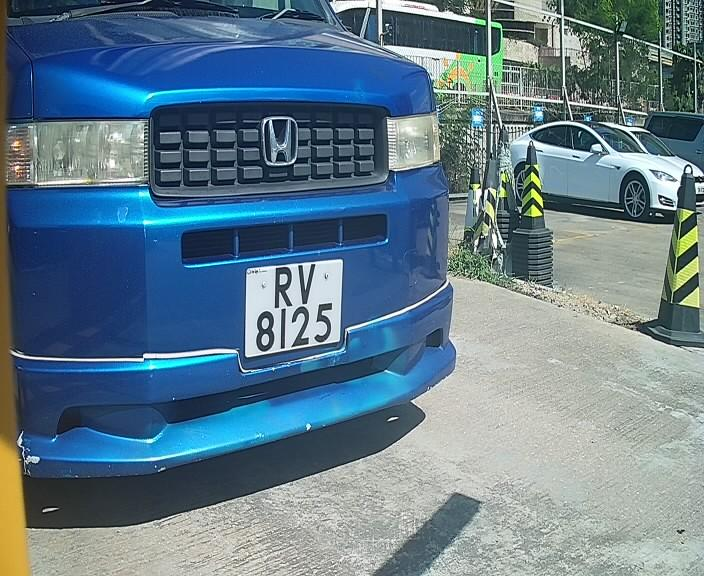Car: (4, 3, 488, 520)
License Plate: (239, 247, 346, 371)
